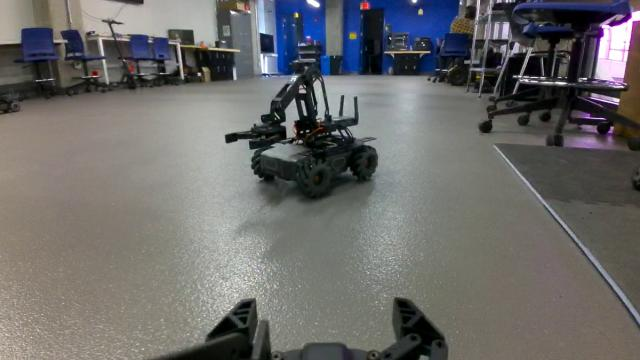robot: (219, 56, 380, 199)
